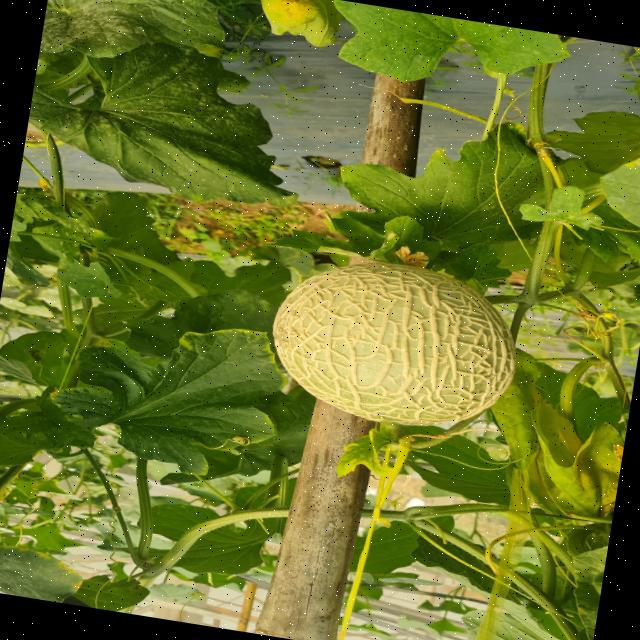melon: (272, 261, 515, 425)
